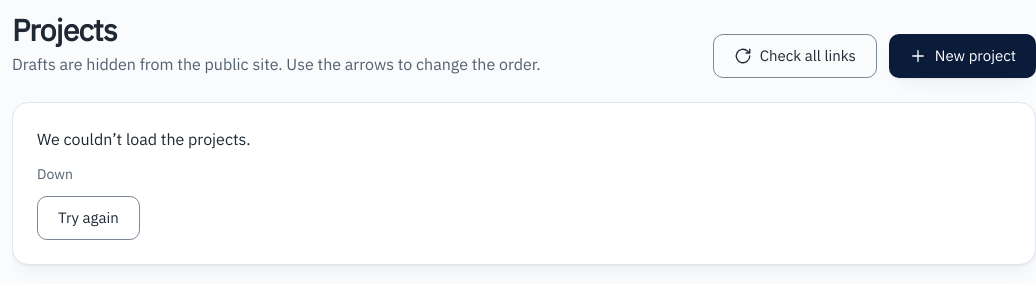
it: ProjectsPage › shows empty and error states
Click the button "Try again": click(88, 218) x1=37 y1=196 x2=140 y2=240
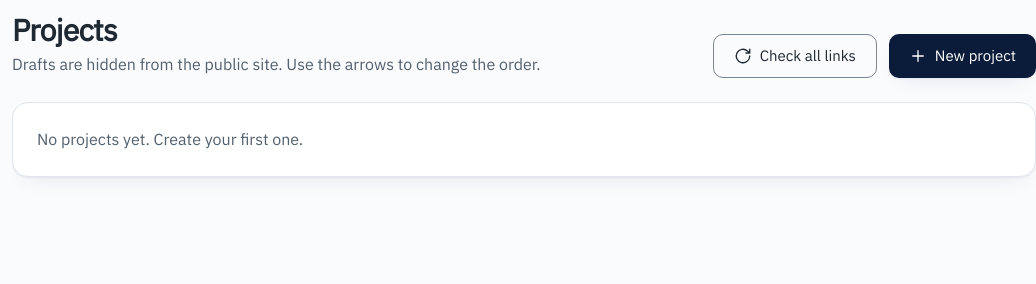
Result: the text "No projects yet. Create your first one." is shown at x1=12 y1=102 x2=1035 y2=177
